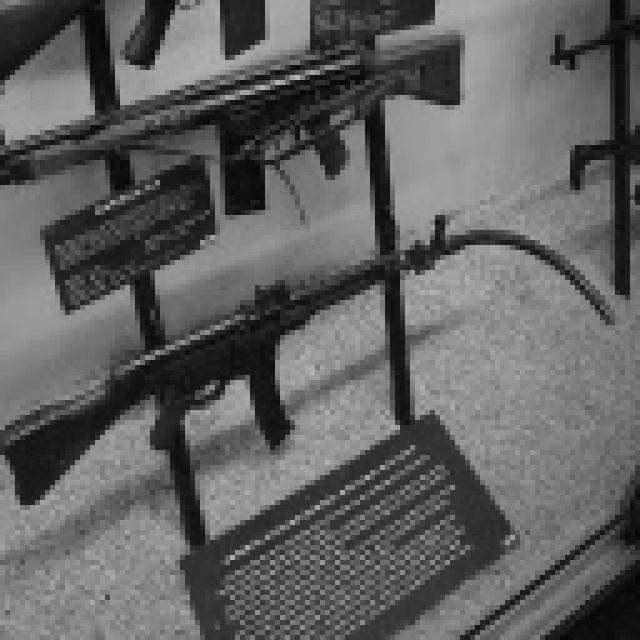Rifle: (0, 210, 475, 515), (0, 0, 470, 205)
